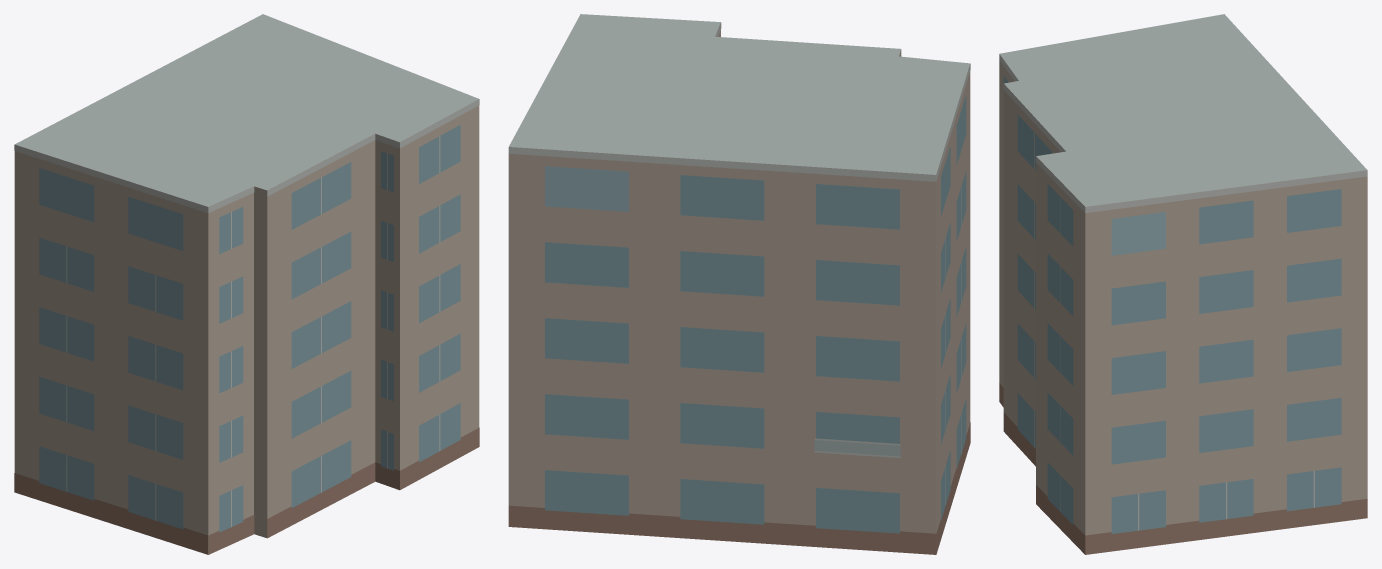
The model's file is survey-upis-32848303.glb.
3 views of the same model, side by side, from view 1: azimuth 30°, elevation 25°; view 2: azimuth 150°, elevation 25°; view 3: azimuth 270°, elevation 25° (orthographic). The views are drawn at different scales.
Visible parts, largest first — view 1: survey-upis-32848303.tmp; view 2: survey-upis-32848303.tmp; view 3: survey-upis-32848303.tmp.
Boxes of the visible parts, x1,y1,x2,y2 form: survey-upis-32848303.tmp: (14,14,479,554); survey-upis-32848303.tmp: (508,14,970,554); survey-upis-32848303.tmp: (999,14,1367,554).
Size of the model in its own units: 16.22 by 13.63 by 13.08.
